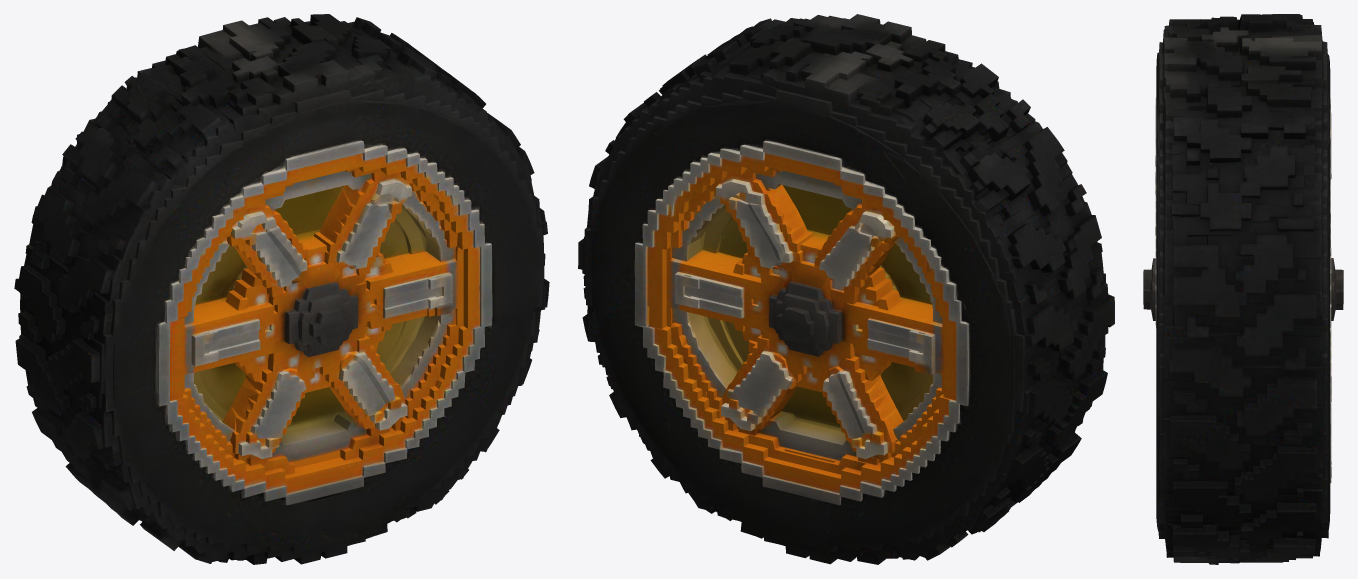
The model's file is wheel-offroad.glb.
3 views of the same model, side by side, from view 1: azimuth 30°, elevation 25°; view 2: azimuth 150°, elevation 25°; view 3: azimuth 270°, elevation 25° (orthographic).
Parts seen in each view (by area): view 1: model; view 2: model; view 3: model.
Part boxes in pixels (box(x1,y1,x2,y2)): model: box(14, 14, 549, 564); model: box(578, 14, 1114, 564); model: box(1143, 14, 1343, 564).
Bounding box in the file's own units: 2 × 2 × 0.76.
Materials: 1 (1 with a texture image).
